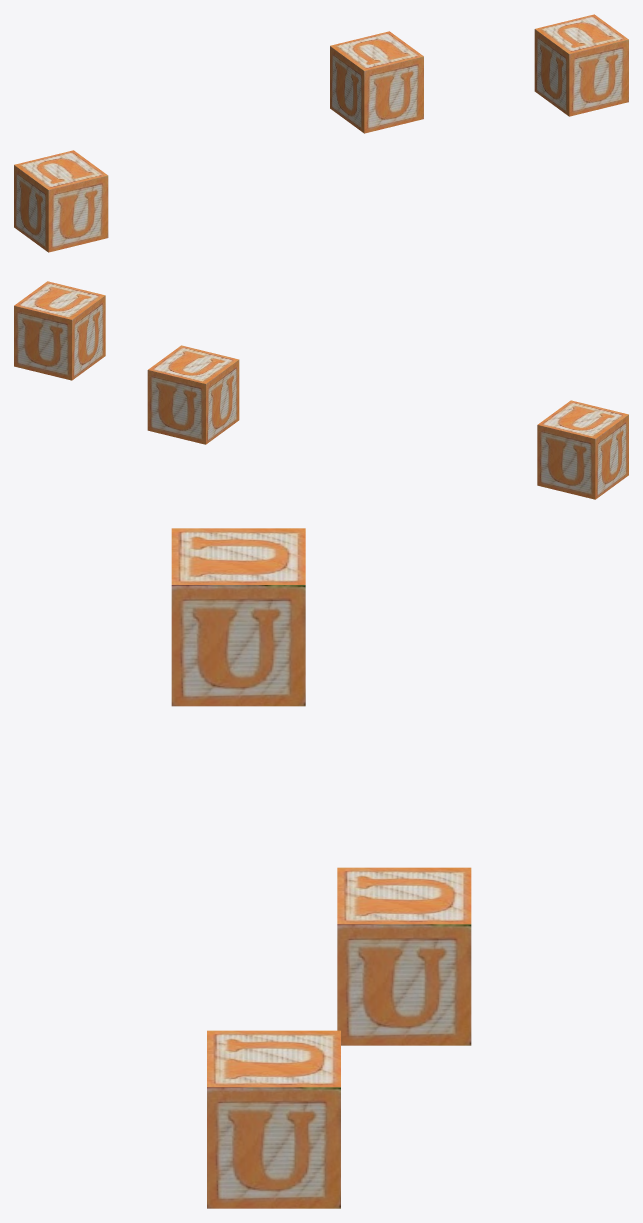
The model's file is blocks only play.fbx.
3 renders of one model, top to bottom at view 1: azimuth 30°, elevation 25°; view 2: azimuth 150°, elevation 25°; view 3: azimuth 270°, elevation 25°, orthographic. The views are drawn at different scales.
Parts seen in each view (by area): view 1: Cube.001, Cube.002, Cube.008; view 2: Cube.008, Cube.001, Cube.002; view 3: Cube.002, Cube.008, Cube.001.
Boxes of the visible parts, bbox=[...] form: Cube.001: bbox=[534, 14, 628, 116]; Cube.002: bbox=[14, 150, 108, 252]; Cube.008: bbox=[330, 31, 423, 133]; Cube.008: bbox=[147, 345, 239, 444]; Cube.001: bbox=[14, 281, 105, 380]; Cube.002: bbox=[537, 400, 628, 499]; Cube.002: bbox=[171, 528, 305, 706]; Cube.008: bbox=[337, 867, 471, 1045]; Cube.001: bbox=[207, 1030, 340, 1208].
Size of the model in its own units: 118 by 12.06 by 26.83.
